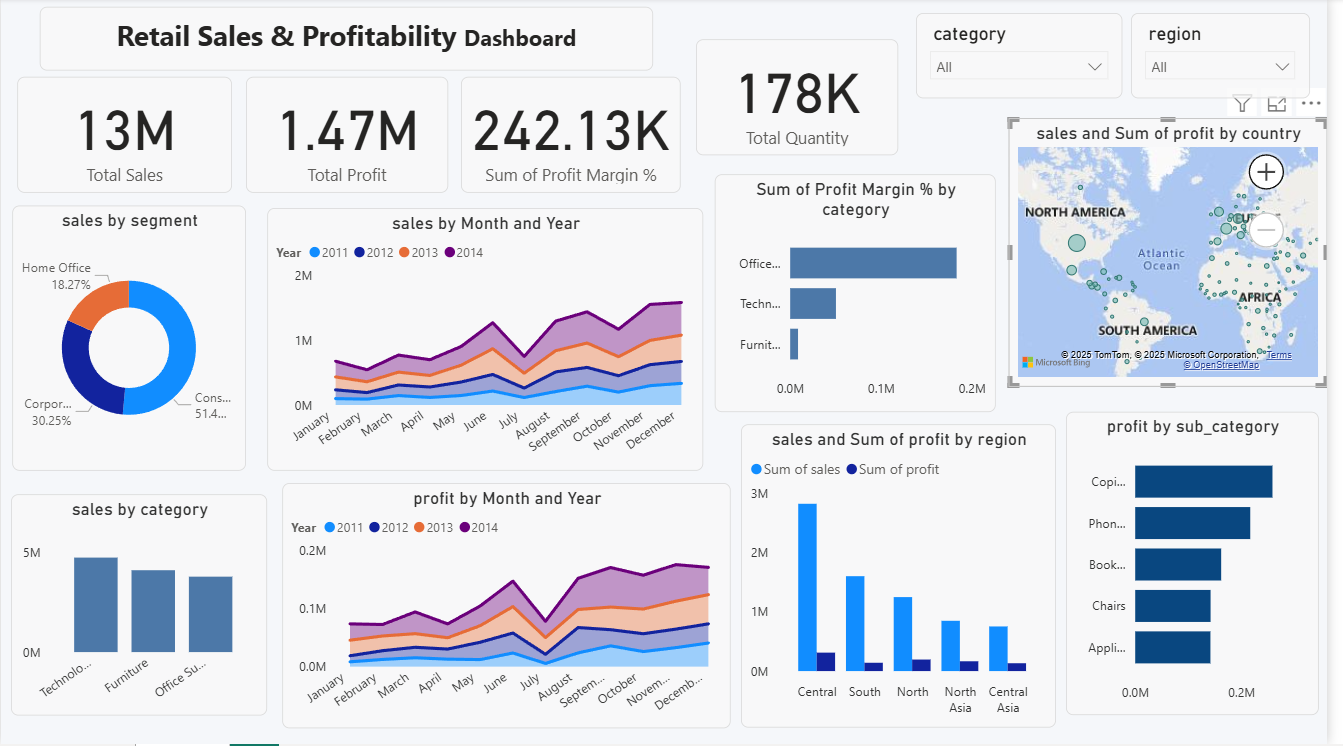

This screenshot's page, from the dashboard's own definition file:
{"tool":"powerbi","page":{"name":"Page 1","canvas":[1280,720],"ordinal":0},"visuals":[{"type":"columnChart","title":" sales by category","fields":{"Category":["Sheet1.category"],"Y":["Sum(Sheet1.sales)"]},"box":[9.7,479,247.3,213.5],"z":0},{"type":"barChart","title":"profit by sub_category","fields":{"Y":["Sum(Sheet1.profit)"],"Category":["Sheet1.sub_category"]},"box":[1027.9,399.3,243.7,293.2],"z":1000},{"type":"clusteredColumnChart","title":" sales and Sum of profit by region","fields":{"Y":["Sum(Sheet1.sales)","Sum(Sheet1.profit)"],"Category":["Sheet1.region"]},"box":[714.2,411.4,304,293.2],"z":2000},{"type":"barChart","fields":{"Y":["Sum(Cleaned_Data.Profit Margin %)"],"Category":["Cleaned_Data.category"]},"box":[688.9,170.1,271.4,229.2],"z":3001},{"type":"map","title":" sales and Sum of profit by country","fields":{"Category":["Cleaned_Data.country"],"Size":["Sum(Cleaned_Data.sales)"]},"box":[972.4,115.8,307.6,259.4],"z":3002},{"type":"stackedAreaChart","title":" sales by Month and Year","fields":{"Y":["Sum(Cleaned_Data.sales)"],"Category":["Cleaned_Data.order_date.Variation.Date Hierarchy.Month","Cleaned_Data.order_date.Variation.Date Hierarchy.Day"],"Series":["Cleaned_Data.order_date.Variation.Date Hierarchy.Year"]},"box":[257,202.7,421,253.4],"z":3003},{"type":"stackedAreaChart","title":"profit by Month and Year","fields":{"Category":["Cleaned_Data.order_date.Variation.Date Hierarchy.Month","Cleaned_Data.order_date.Variation.Date Hierarchy.Day"],"Series":["Cleaned_Data.order_date.Variation.Date Hierarchy.Year"],"Y":["Sum(Cleaned_Data.profit)"]},"box":[271.4,468.1,433.1,236.5],"z":3004},{"type":"donutChart","title":" sales by segment","fields":{"Y":["Sum(Cleaned_Data.sales)"],"Category":["Cleaned_Data.segment"]},"box":[10.9,200.3,225.6,255.8],"z":3005},{"type":"textbox","box":[37.4,8.4,592.4,61.5],"z":3006},{"type":"slicer","fields":{"Values":["Cleaned_Data.region"]},"box":[1090.6,14.5,172.5,82],"z":3007},{"type":"card","fields":{"Values":["Cleaned_Data.Total Sales"]},"box":[15.7,76,207.5,112.2],"z":3008},{"type":"card","fields":{"Values":["Cleaned_Data.Total Profit"]},"box":[236.5,76,195.4,112.2],"z":3009},{"type":"card","fields":{"Values":["Sum(Cleaned_Data.Profit Margin %)"]},"box":[444,76,212.3,112.2],"z":3010},{"type":"card","fields":{"Values":["Cleaned_Data.Total Quantity"]},"box":[670.8,39.8,195.4,112.2],"z":3011},{"type":"slicer","fields":{"Values":["Cleaned_Data.category"]},"box":[883.1,14.5,199.1,82],"z":3012}]}

Visuals, with their boxes in screenshot pixels (x1, y1, x2, y2), scaled from the page's 1280x720 canvas onto the 1343x746 screenshot:
" sales by category" columnChart: locate(10, 496, 270, 718)
"profit by sub_category" barChart: locate(1078, 414, 1334, 718)
" sales and Sum of profit by region" clusteredColumnChart: locate(749, 426, 1068, 730)
barChart - Sum(Cleaned_Data.Profit Margin %) x Cleaned_Data.category: locate(723, 176, 1008, 414)
" sales and Sum of profit by country" map: locate(1020, 120, 1342, 389)
" sales by Month and Year" stackedAreaChart: locate(270, 210, 711, 473)
"profit by Month and Year" stackedAreaChart: locate(285, 485, 739, 730)
" sales by segment" donutChart: locate(11, 208, 248, 473)
textbox: locate(39, 9, 661, 72)
slicer - Cleaned_Data.region: locate(1144, 15, 1325, 100)
card - Cleaned_Data.Total Sales: locate(16, 79, 234, 195)
card - Cleaned_Data.Total Profit: locate(248, 79, 453, 195)
card - Sum(Cleaned_Data.Profit Margin %): locate(466, 79, 689, 195)
card - Cleaned_Data.Total Quantity: locate(704, 41, 909, 157)
slicer - Cleaned_Data.category: locate(927, 15, 1135, 100)
